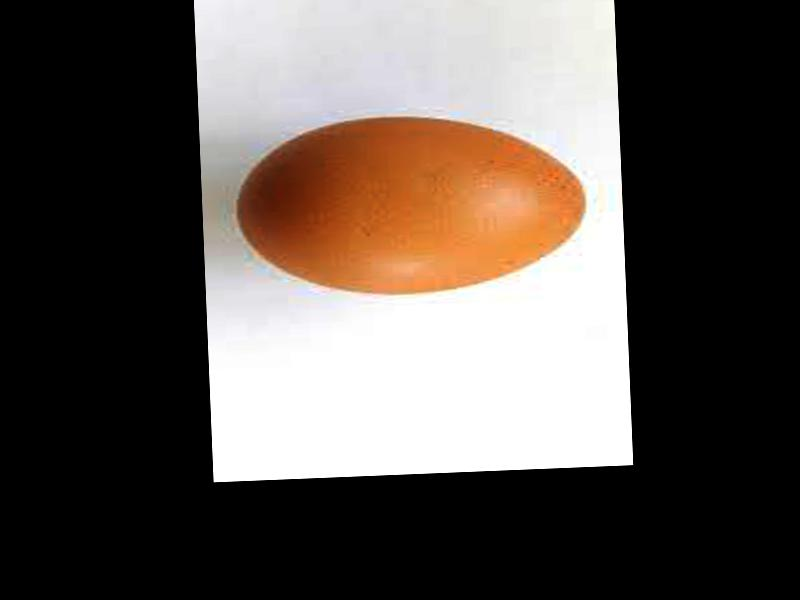Eggs: (235, 109, 588, 299)
